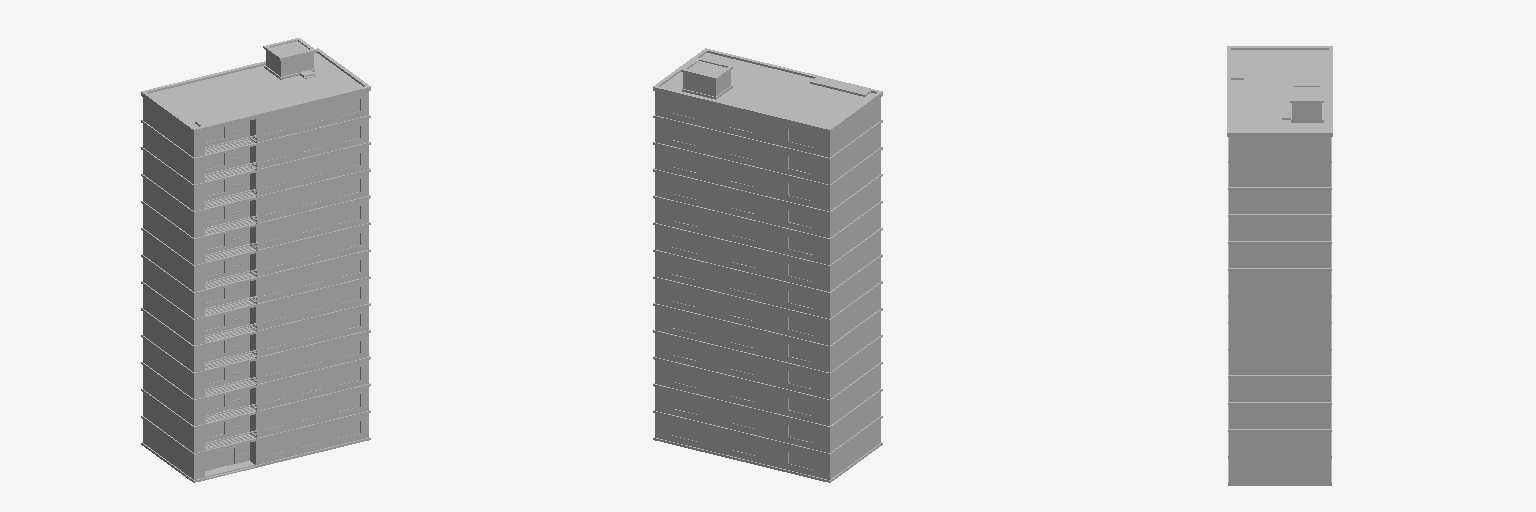
Rendered from 13 Story Ap #1.obj.
3 renders of one model, left to right at view 1: azimuth 30°, elevation 25°; view 2: azimuth 150°, elevation 25°; view 3: azimuth 270°, elevation 25°, orthographic.
Parts seen in each view (by area): view 1: 13_Story_Ap_building_002_mesh; view 2: 13_Story_Ap_building_002_mesh; view 3: 13_Story_Ap_building_002_mesh.
Boxes of the visible parts, x1,y1,x2,y2 form: 13_Story_Ap_building_002_mesh: [141, 38, 370, 482]; 13_Story_Ap_building_002_mesh: [653, 48, 882, 482]; 13_Story_Ap_building_002_mesh: [1227, 46, 1332, 485].
Size of the model in its own units: 16.61 by 33.3 by 8.56.